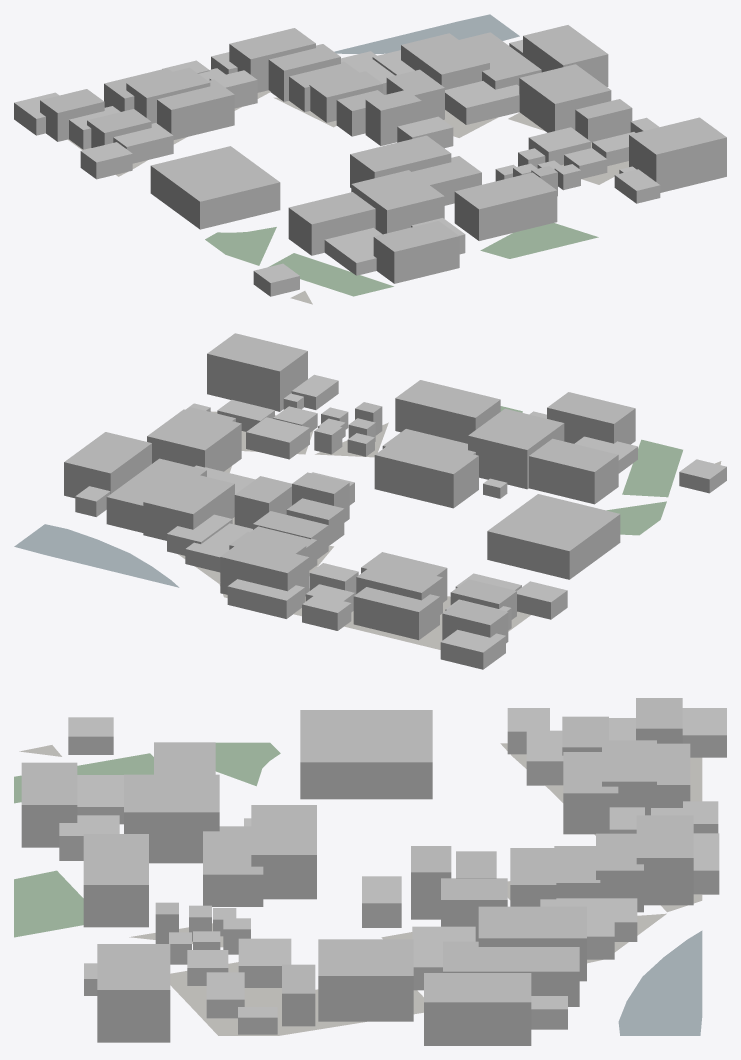
The model's file is 123_94_mid.glb.
The picture shows the model from 3 angles, top to bottom: view 1: azimuth 30°, elevation 25°; view 2: azimuth 150°, elevation 25°; view 3: azimuth 270°, elevation 25°; orthographic projection. The views are drawn at different scales.
Bounding box in the file's own units: 538 × 43.35 × 518.
